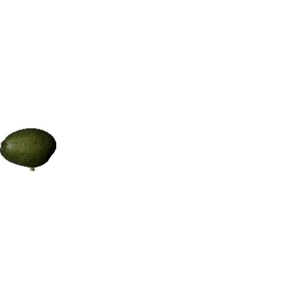abacate: (1, 126, 60, 168)
